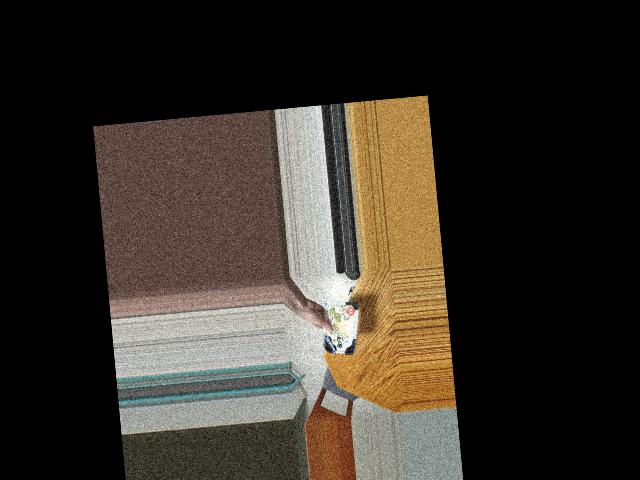cheese: (320, 306, 360, 358)
